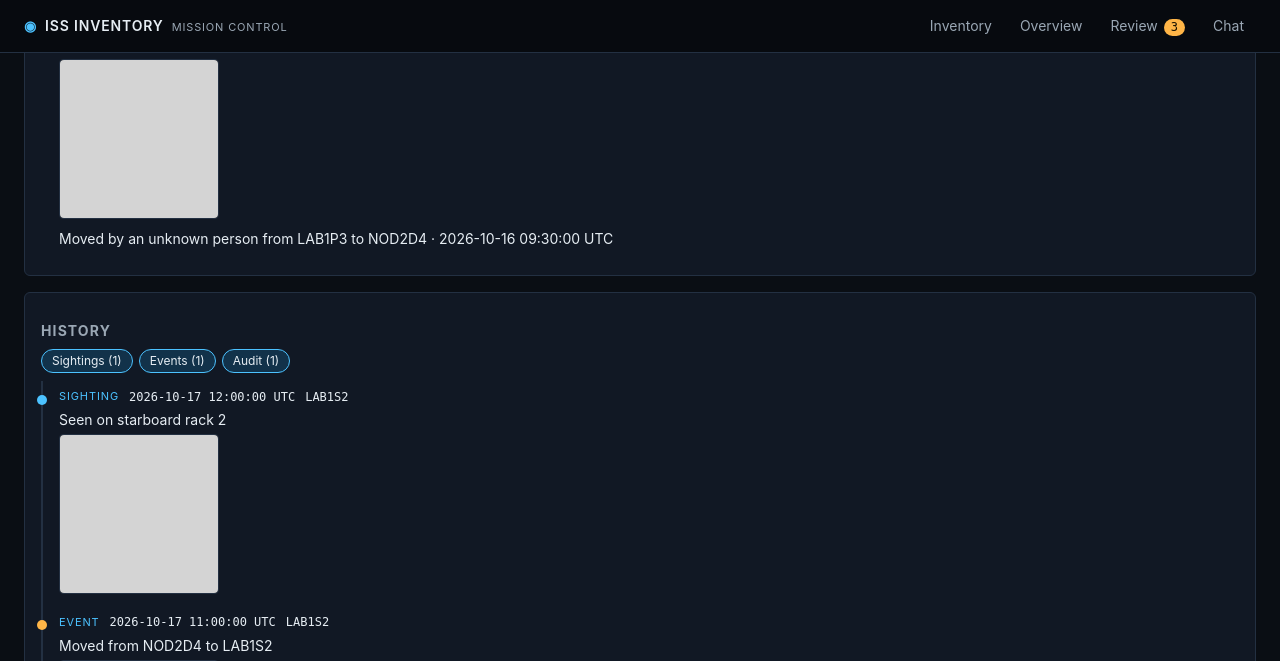
Scenario: AC-UI-17 history grouping › AC-UI-17 kind chips filter the timeline (audit hidden)
This screenshot has width=1280, height=661.
(page scrolled)
Click the button "Audit (1)": [256, 361] box x1=222 y1=349 x2=290 y2=373
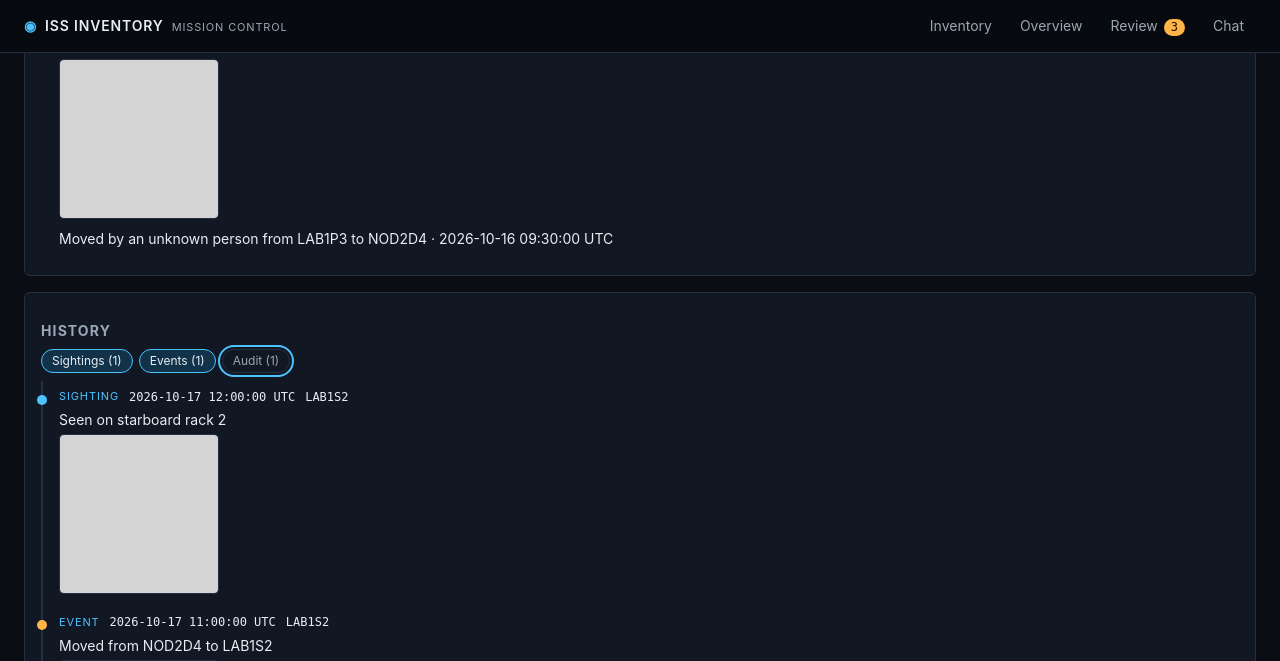
Check: the button "Audit (1)" is not pressed, box x1=222 y1=349 x2=290 y2=373
